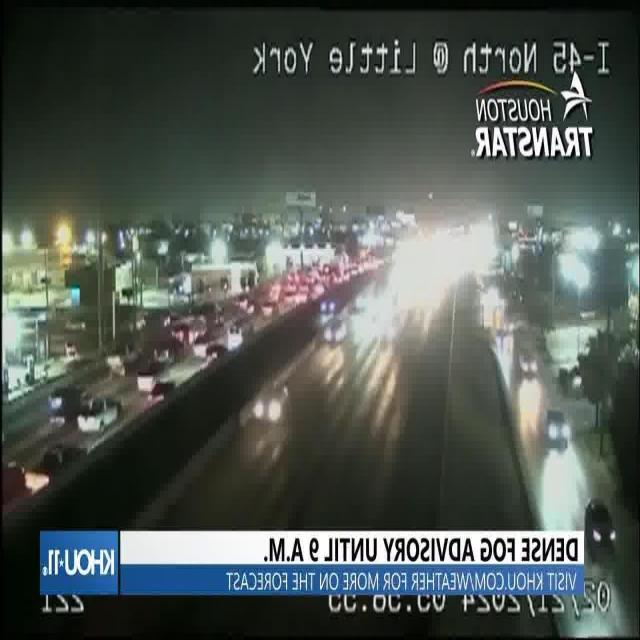Car: (252, 374, 298, 426), (319, 316, 347, 350), (316, 292, 341, 320)
